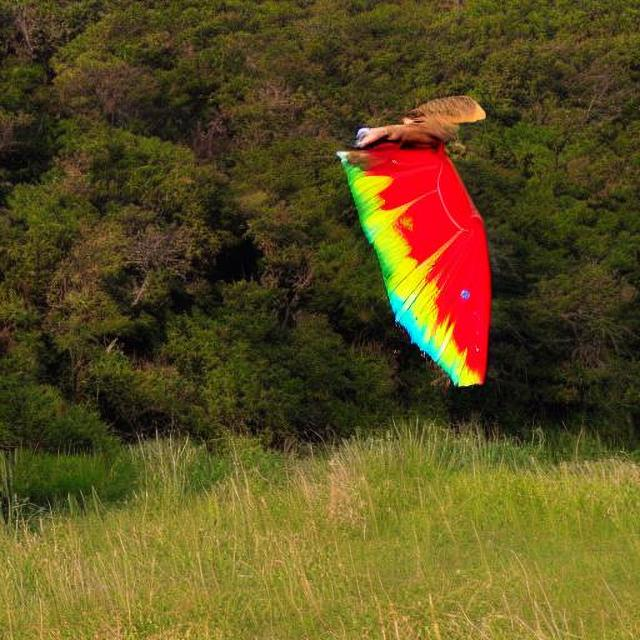floating object: (340, 119, 496, 393)
